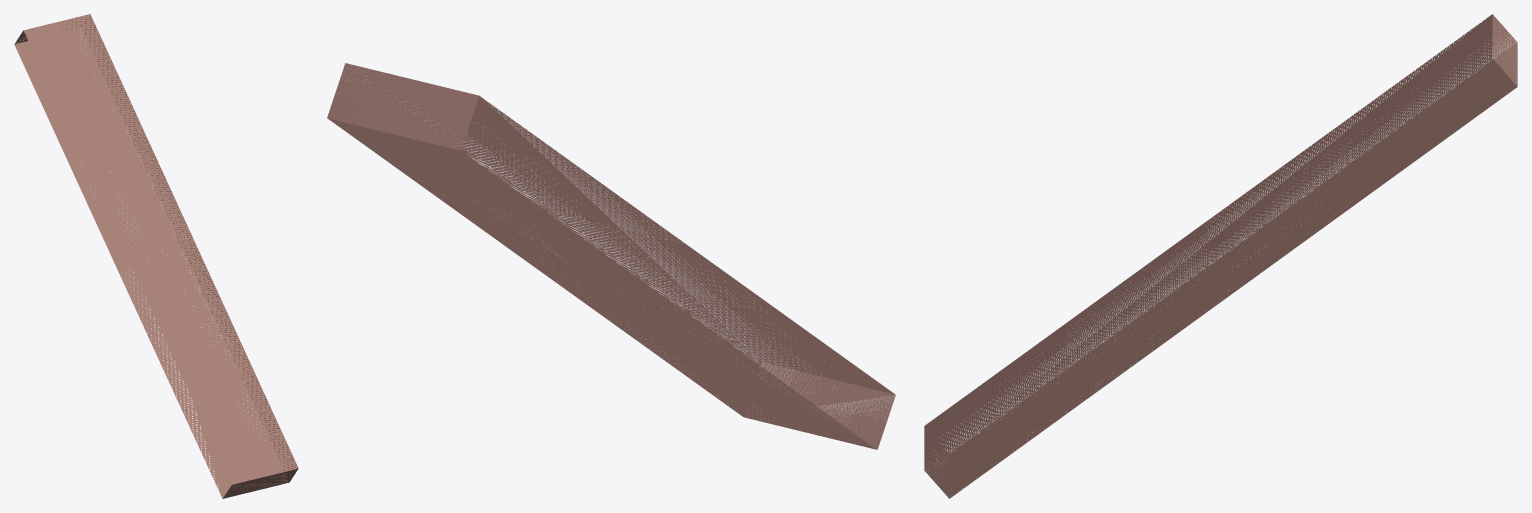
Rendered from SW_ENV_Railing_StairWall_04_Collision.fbx.
3 views of the same model, side by side, from view 1: azimuth 30°, elevation 25°; view 2: azimuth 150°, elevation 25°; view 3: azimuth 270°, elevation 25° (orthographic). The views are drawn at different scales.
Parts seen in each view (by area): view 1: SW_ENV_Railing_StairWall_04_Collision; view 2: SW_ENV_Railing_StairWall_04_Collision; view 3: SW_ENV_Railing_StairWall_04_Collision.
Boxes of the visible parts, x1,y1,x2,y2 form: SW_ENV_Railing_StairWall_04_Collision: [14, 14, 298, 498]; SW_ENV_Railing_StairWall_04_Collision: [327, 63, 895, 449]; SW_ENV_Railing_StairWall_04_Collision: [924, 14, 1517, 498].
Bounding box in the file's own units: 0.1856 × 0.8552 × 1.04.
